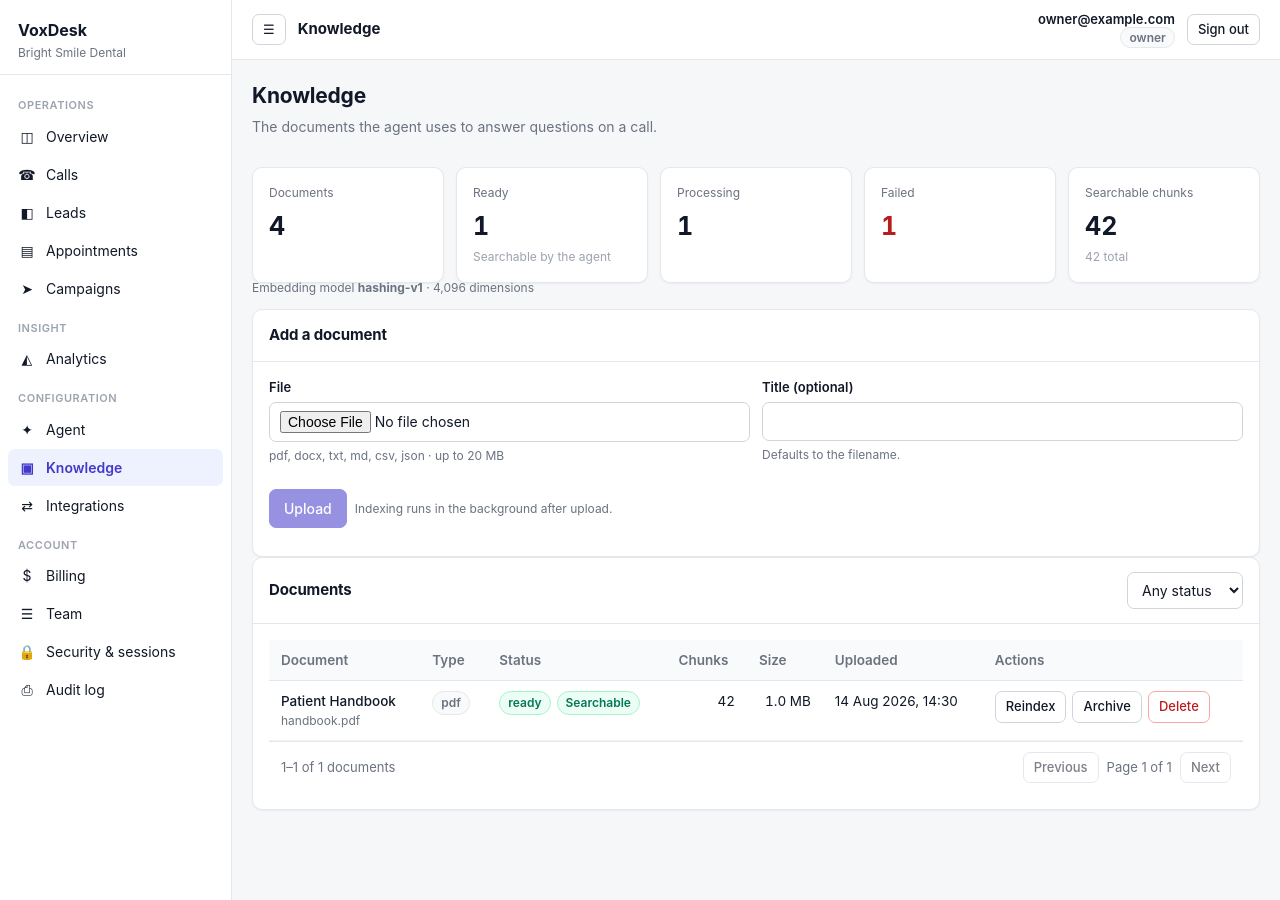
empty and error states › distinguishes an empty filter result from an empty knowledge base
expect the heading "Knowledge" is shown: met, box left=252, top=83, right=366, bottom=108
expect the text "Patient Handbook" is shown: met, box left=281, top=691, right=408, bottom=712
Select "Archived" in the dropdown named "filter by status" at (1185, 590), box left=1127, top=572, right=1243, bottom=609
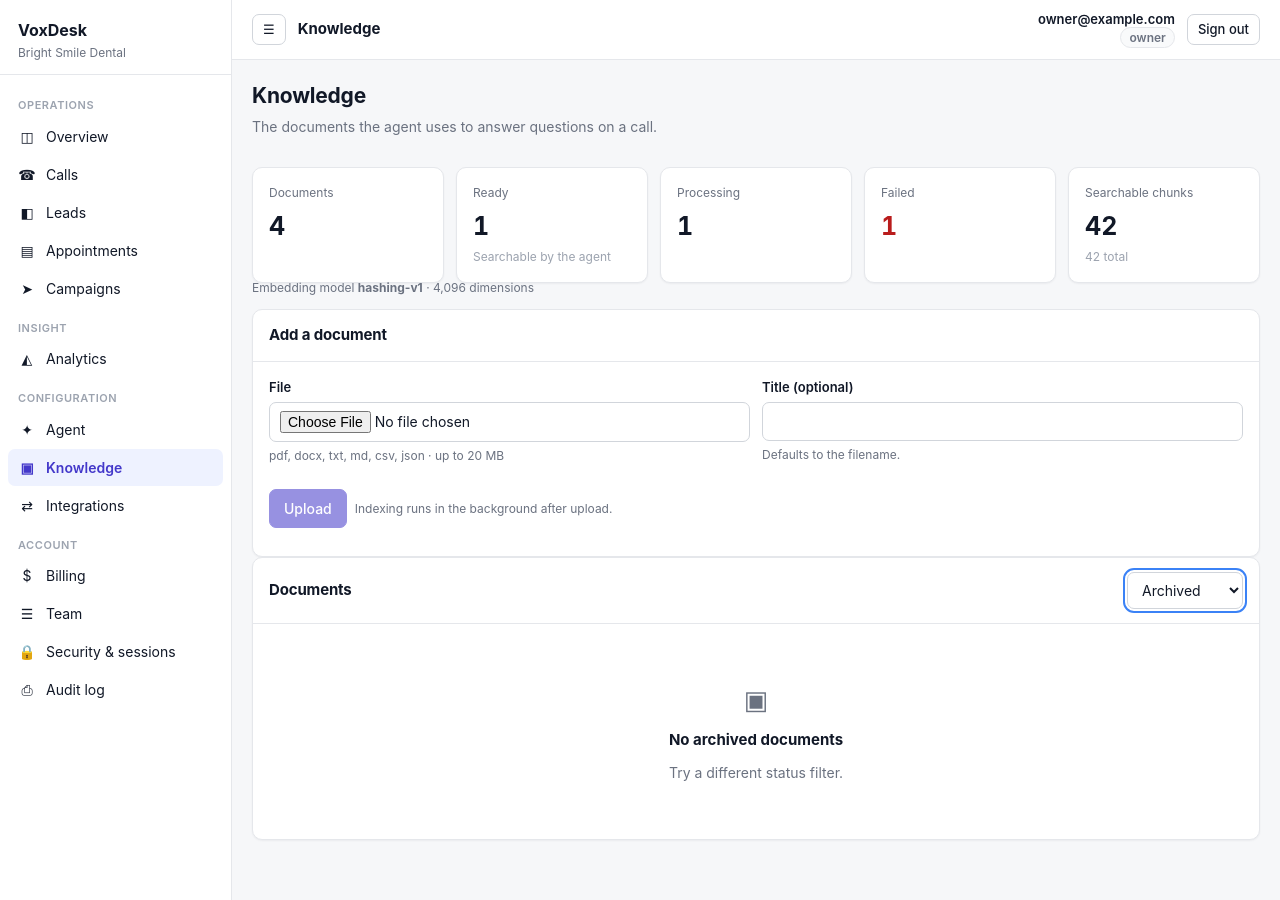
expect the text "No archived documents" is shown: met, box left=669, top=729, right=843, bottom=752
